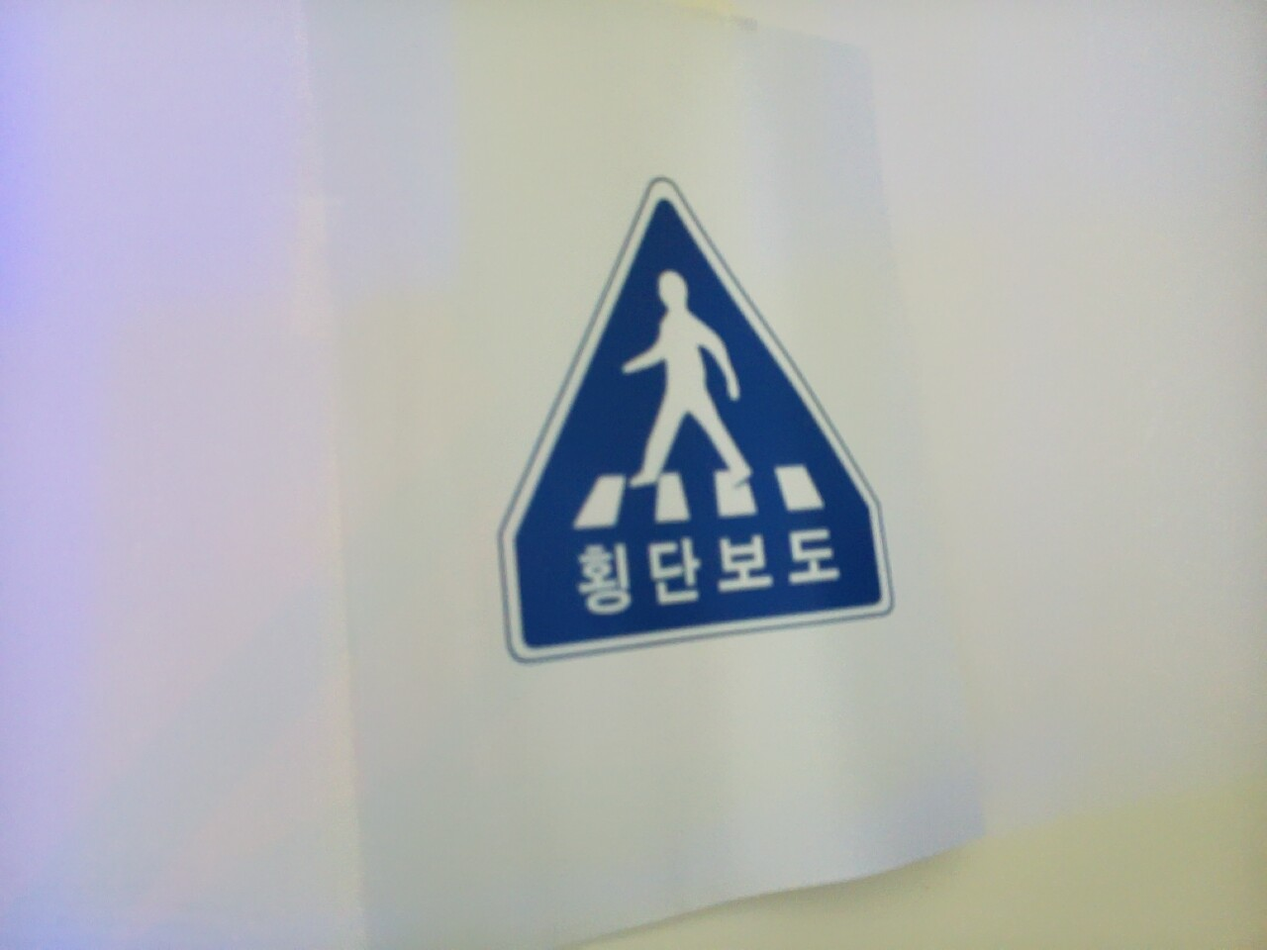crosswalk: (504, 186, 893, 661)
